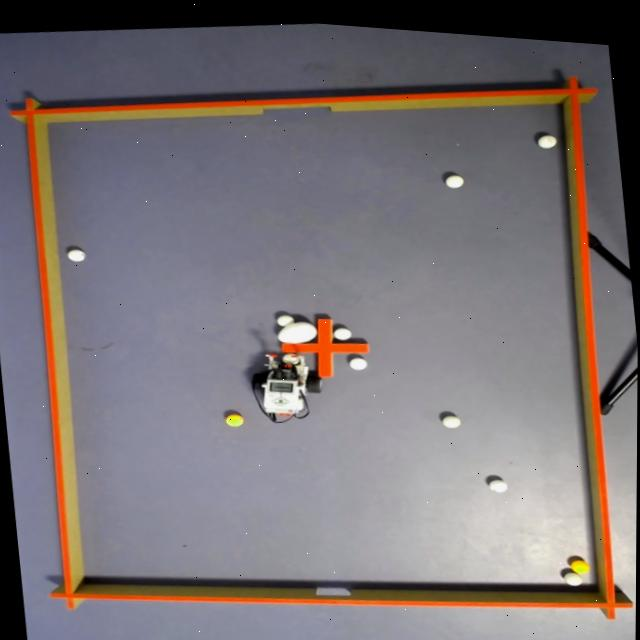boundaries: (8, 65, 636, 609), (47, 93, 598, 588)
cross: (281, 311, 370, 370)
egg: (276, 311, 318, 341)
large_goal: (256, 85, 337, 114)
orange_ball: (570, 547, 592, 565), (225, 406, 246, 423)
robot: (247, 342, 327, 423)
small_goal: (311, 575, 359, 601)
white_ball: (444, 164, 465, 182), (537, 123, 558, 141), (66, 244, 87, 261), (441, 405, 462, 422), (488, 468, 509, 485), (564, 561, 584, 578), (333, 319, 353, 335), (348, 349, 369, 364), (276, 307, 295, 323), (281, 346, 300, 361)
